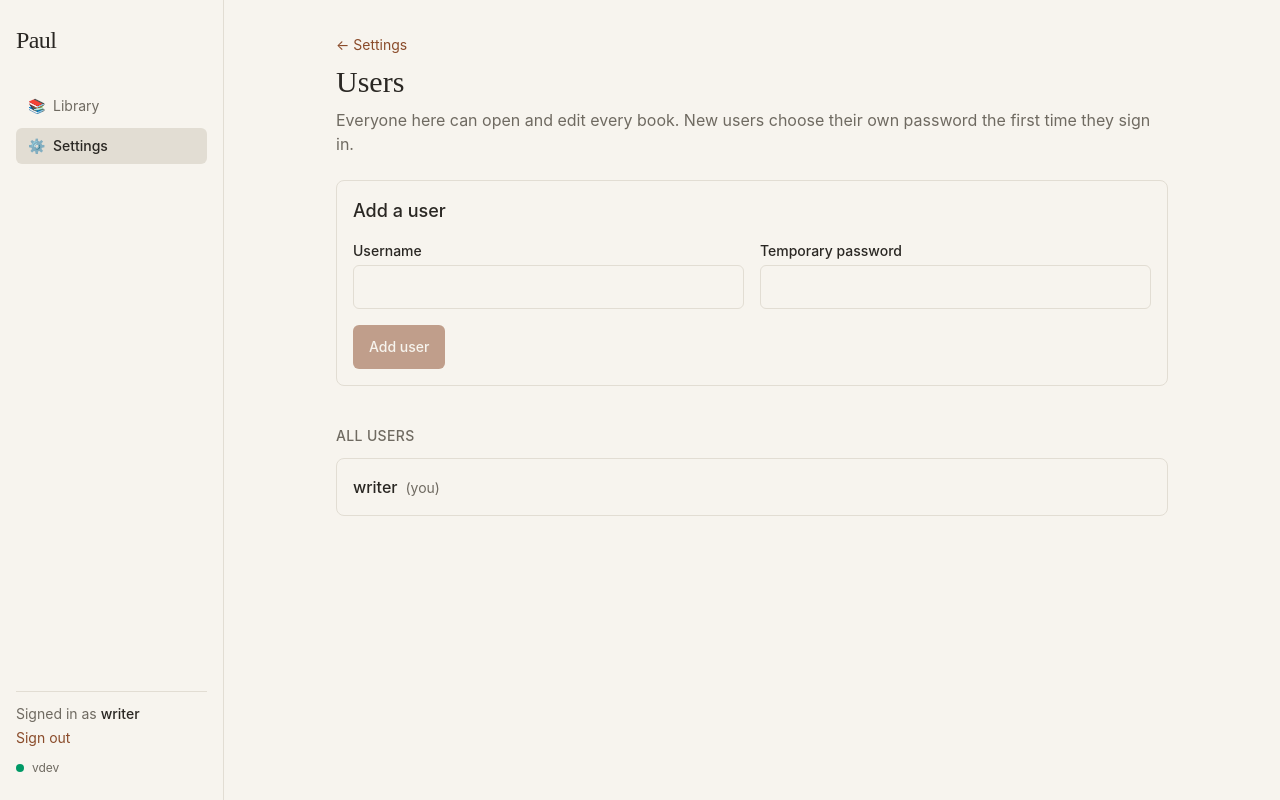
Test case: users page › shows unexpected errors at the top of the form
Type "someone" into the field labelled "Username". click: x=548, y=287
box: left=353, top=265, right=744, bottom=309
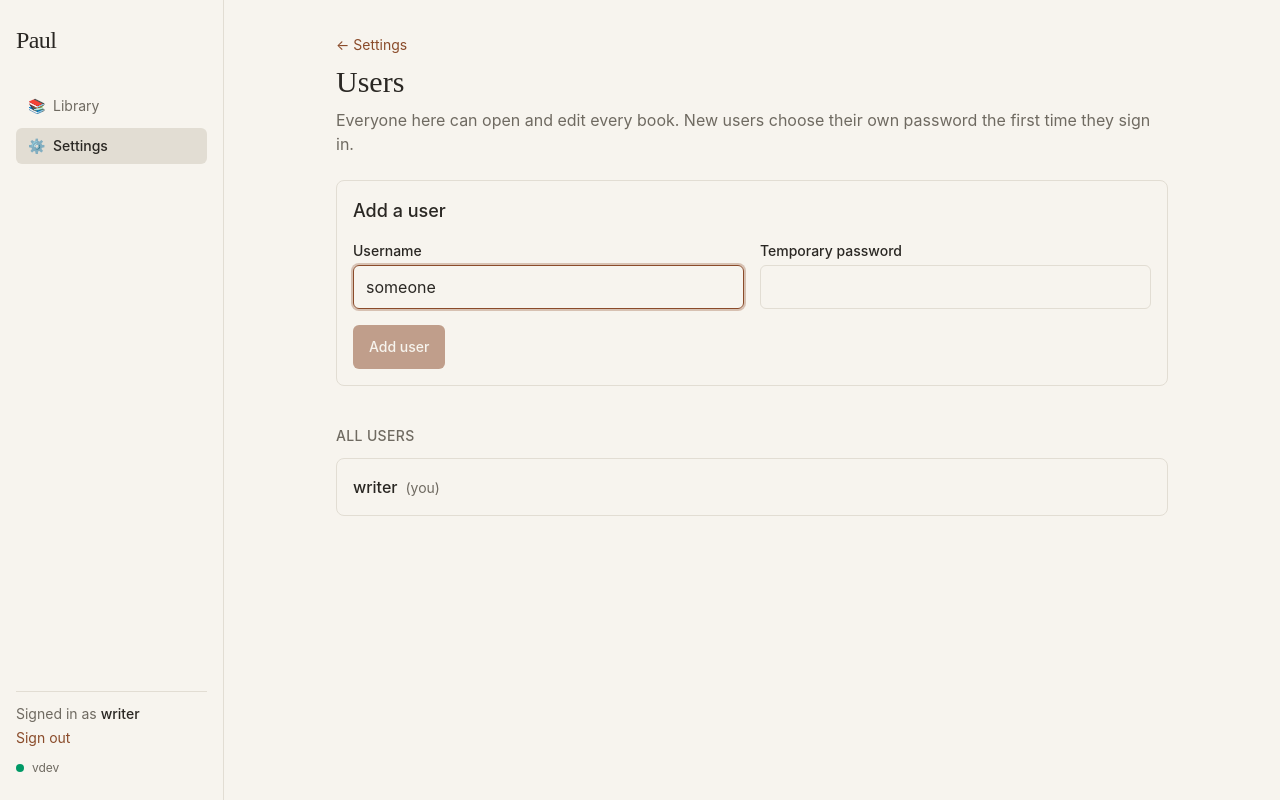
Type "temp-password" into the password field labelled "Temporary password". click: x=956, y=287
box: left=760, top=265, right=1151, bottom=309
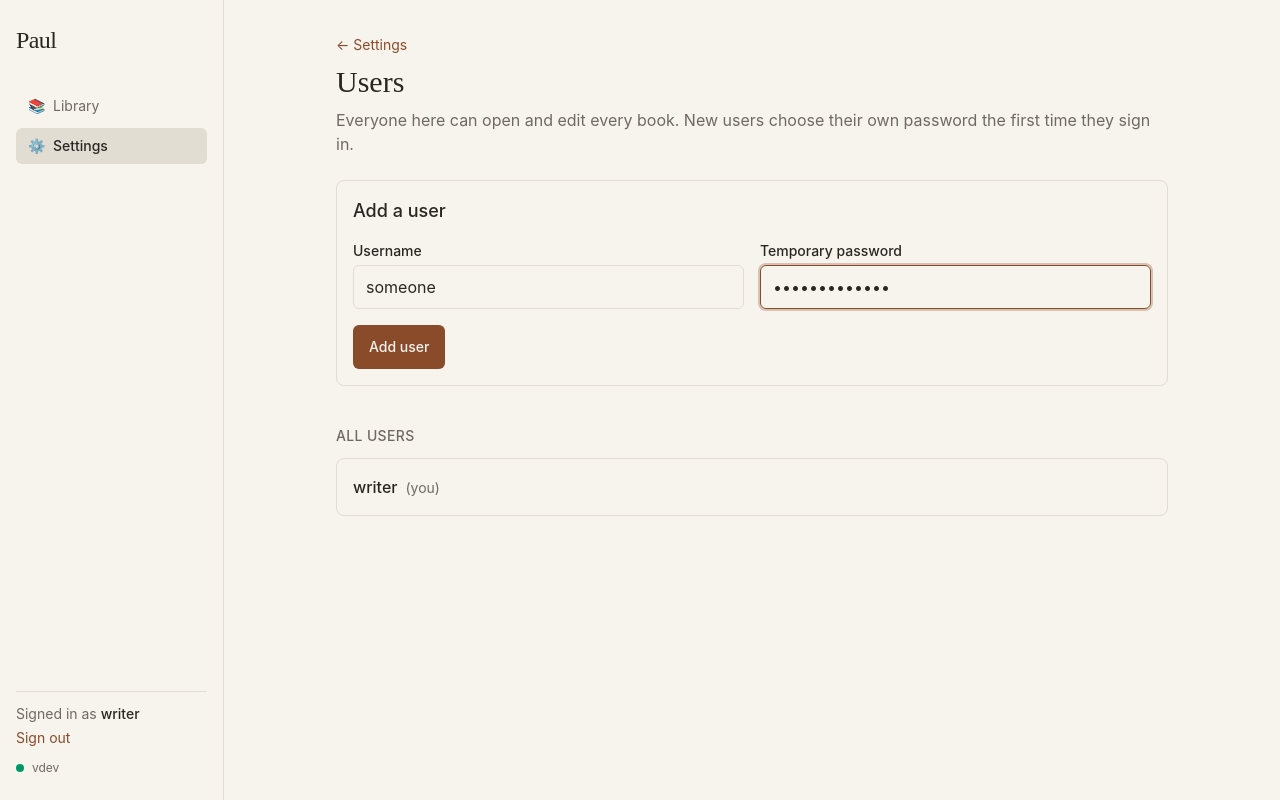
Click the button "Add user". click: x=399, y=347
box: left=353, top=325, right=446, bottom=369
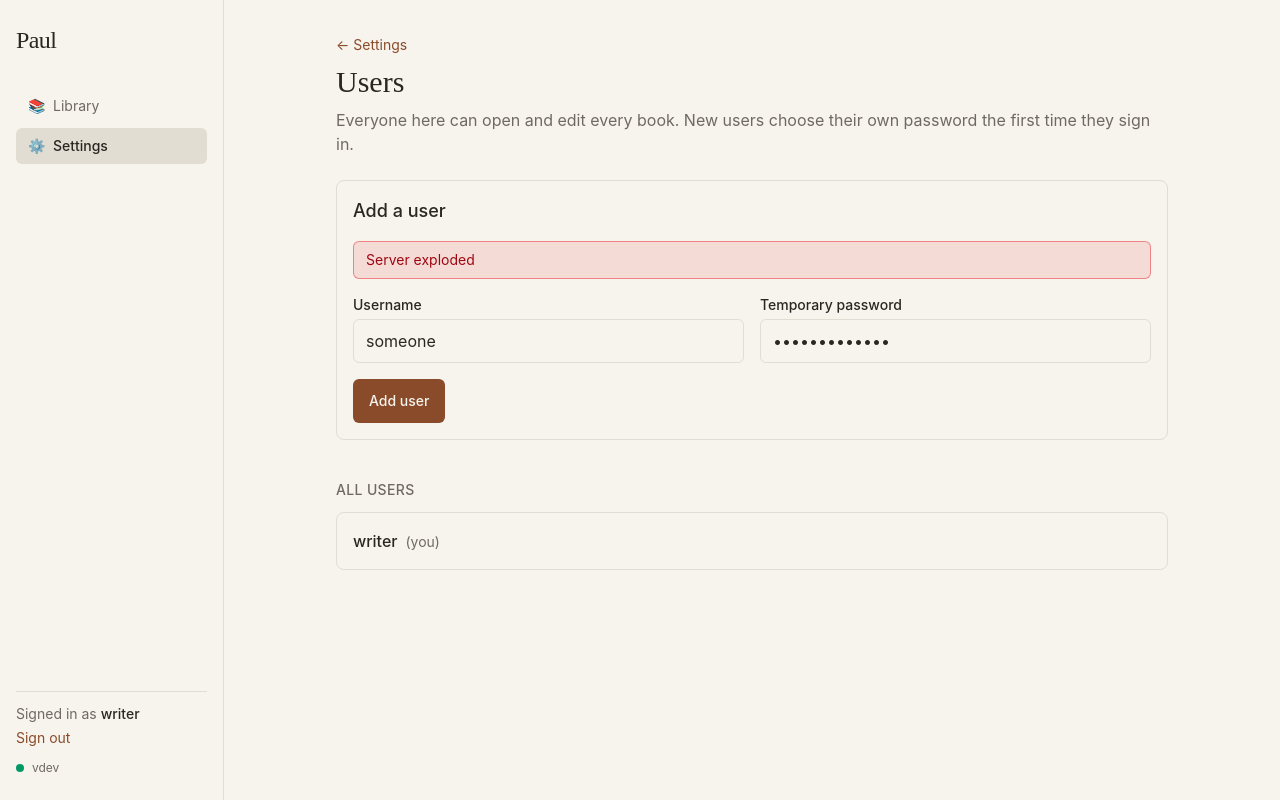
Now the message "Server exploded" is shown, box left=353, top=241, right=1151, bottom=279
